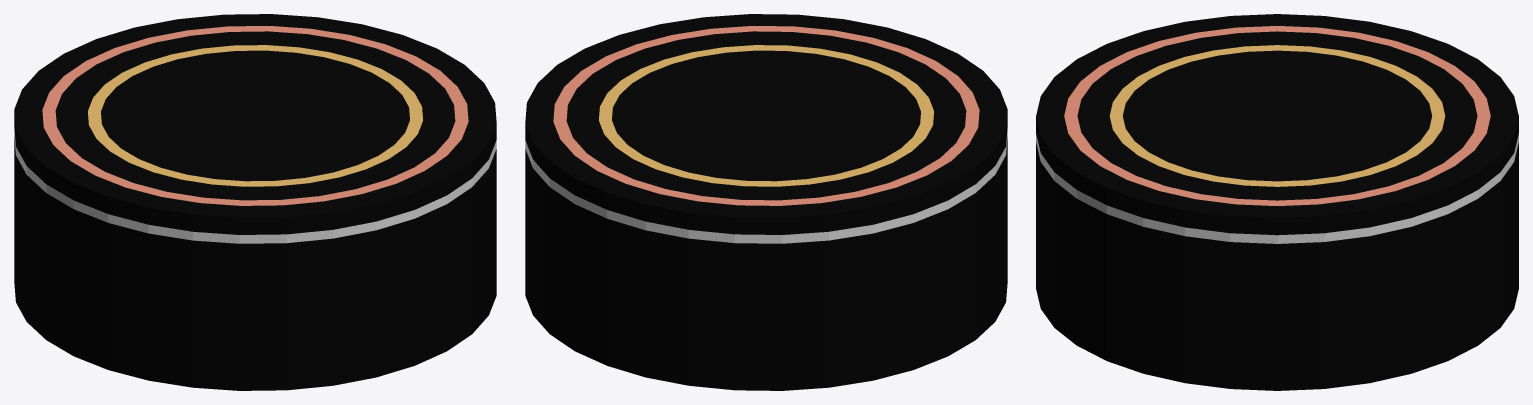
3 views of the same model, side by side, from view 1: azimuth 30°, elevation 25°; view 2: azimuth 150°, elevation 25°; view 3: azimuth 270°, elevation 25° (orthographic).
Parts seen in each view (by area): view 1: Cylinder; view 2: Cylinder; view 3: Cylinder.
Part boxes in pixels (bbox=[...]): Cylinder: bbox=[14, 14, 496, 390]; Cylinder: bbox=[525, 14, 1007, 390]; Cylinder: bbox=[1036, 14, 1518, 390].
Bounding box in the file's own units: 487 × 192 × 487.
